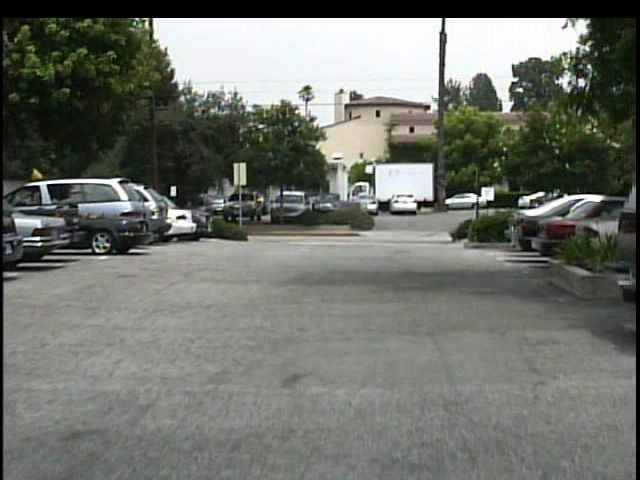person: (181, 192, 200, 230)
